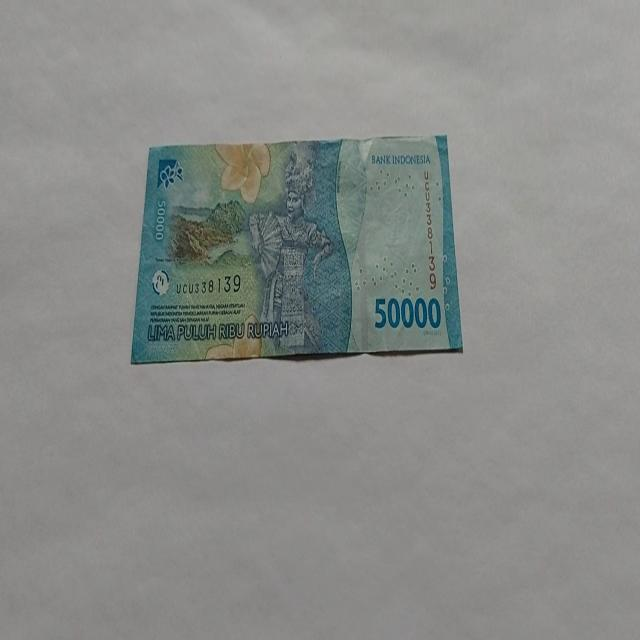lima puluh ribu rupiah: (130, 133, 463, 364)
